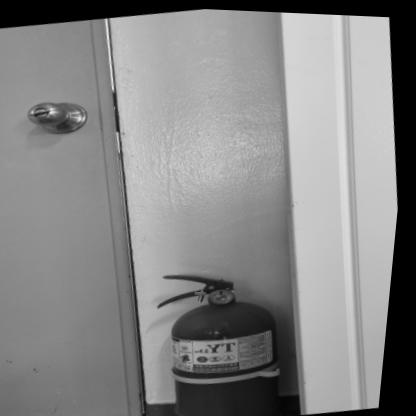FE: (146, 253, 304, 416)
